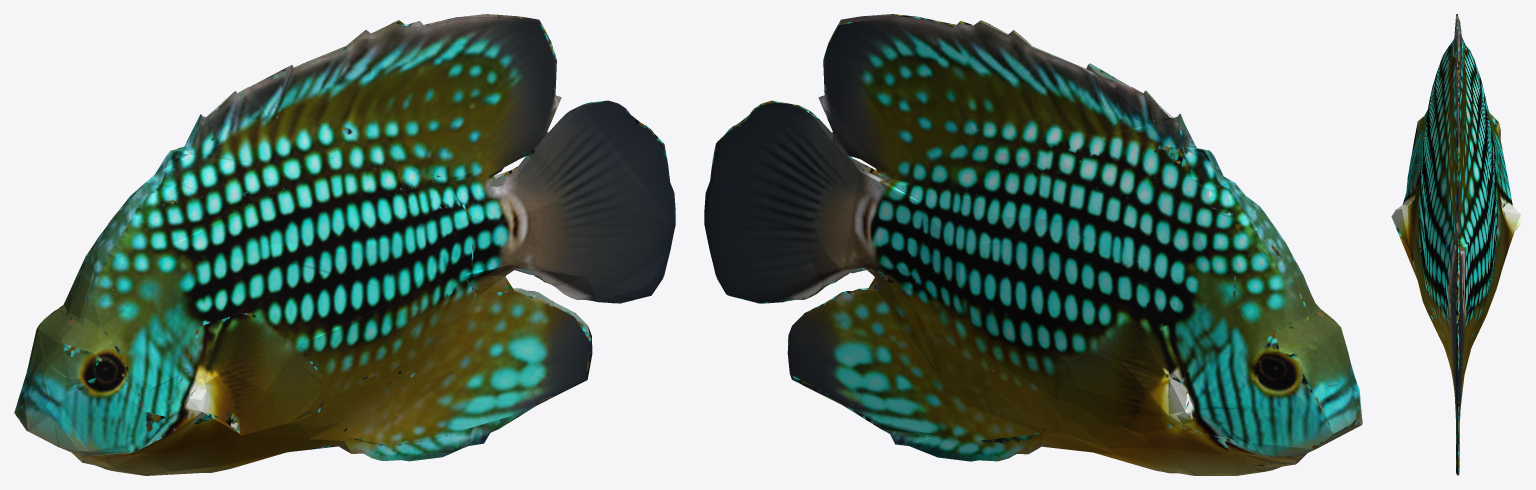
The model's file is fish_0078_smpl23_resized.glb.
3 views of the same model, side by side, from view 1: azimuth 30°, elevation 25°; view 2: azimuth 150°, elevation 25°; view 3: azimuth 270°, elevation 25° (orthographic). The views are drawn at different scales.
Visible parts, largest first — view 1: world; view 2: world; view 3: world.
Part boxes in pixels (x1,y1,x2,y2): world: (14,14,675,475); world: (704,14,1362,475); world: (1391,14,1521,475).
Bounding box in the file's own units: 1.99 × 1.3 × 0.4072.
Materials: 1 (1 with a texture image).
